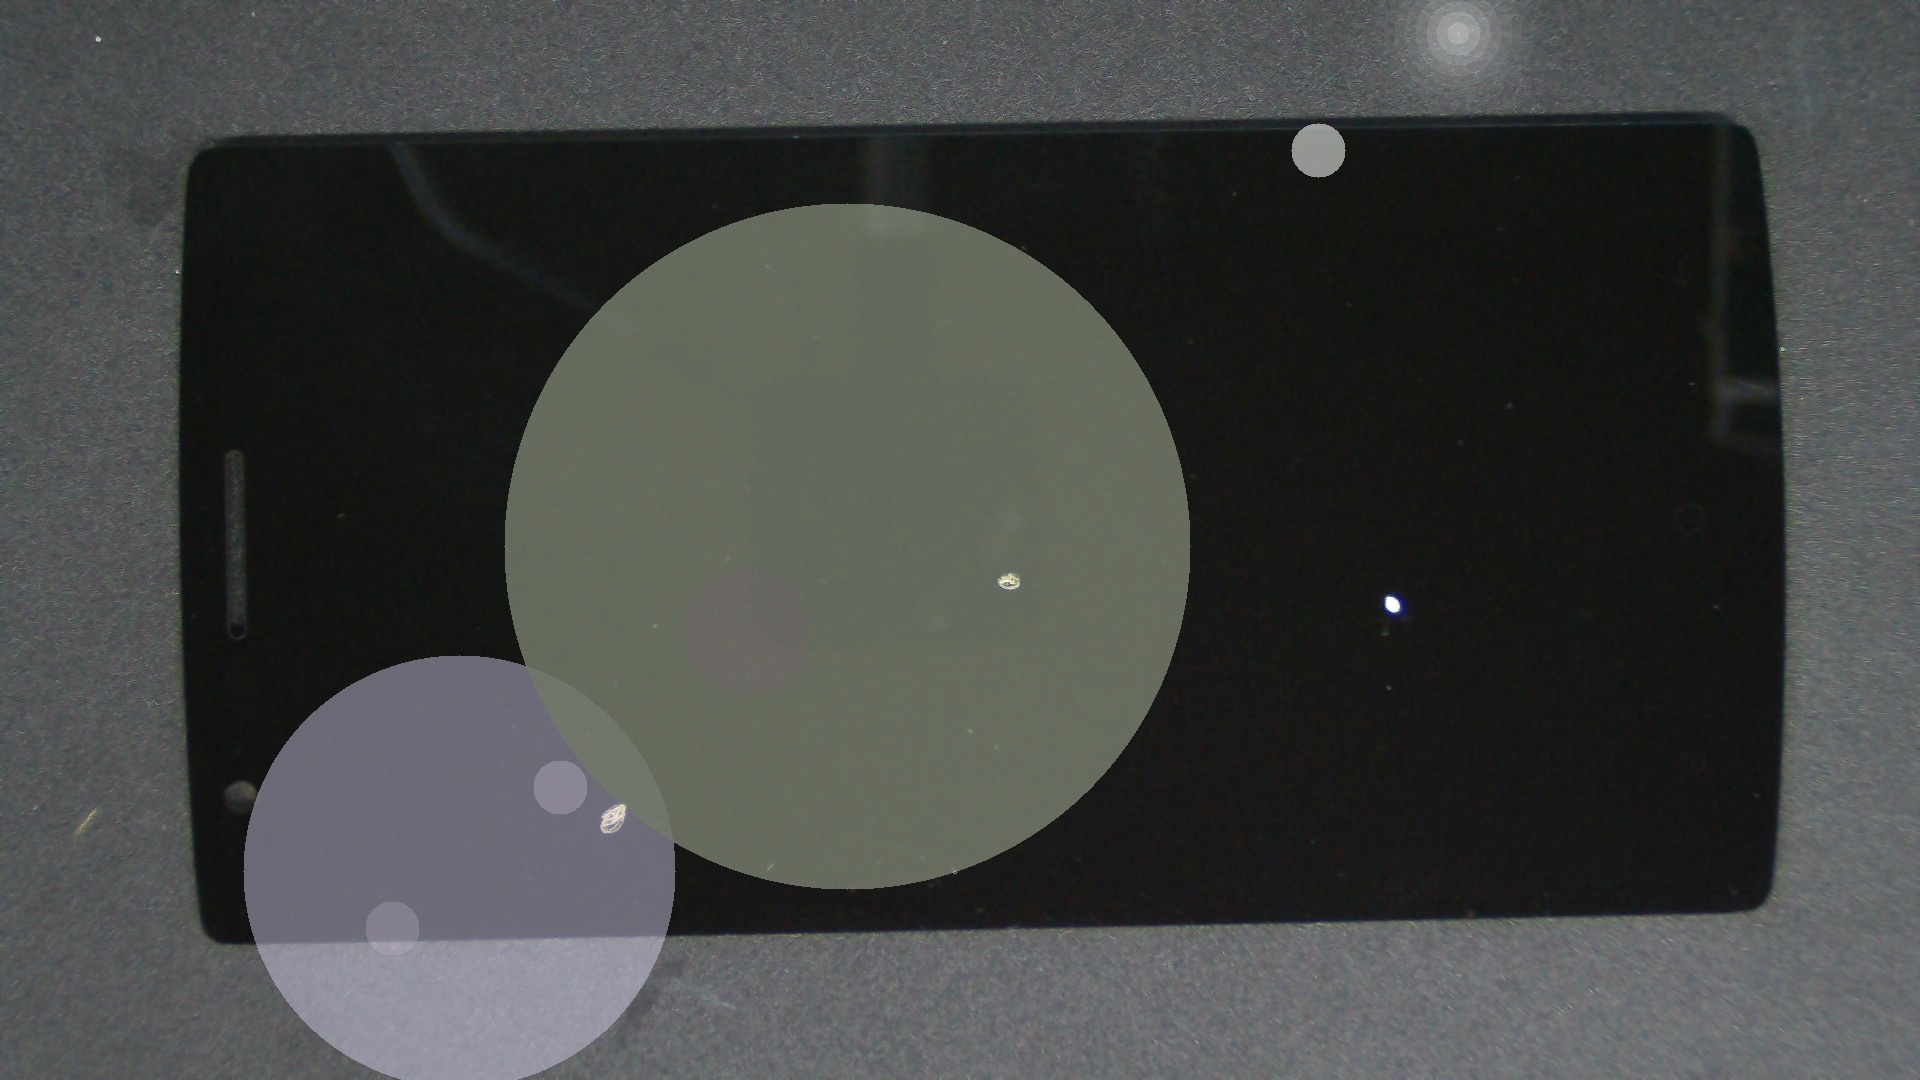oil: (692, 297, 1920, 891), (504, 284, 1505, 858), (311, 401, 931, 1080)
